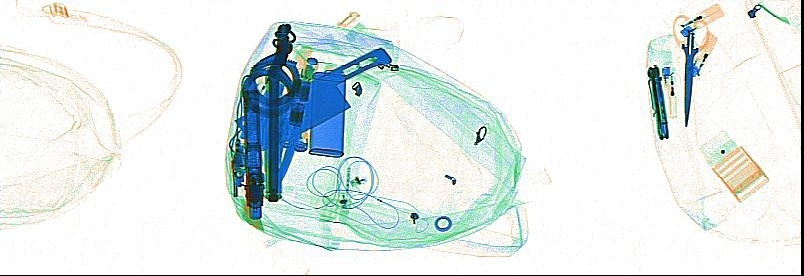handcuffs: (239, 23, 301, 117)
knife: (233, 47, 391, 151), (263, 56, 318, 190), (646, 64, 669, 140)
lighter: (677, 2, 724, 37), (689, 30, 717, 77), (661, 65, 677, 118)
scissors: (672, 14, 708, 127)
zippooil: (308, 66, 346, 157)
